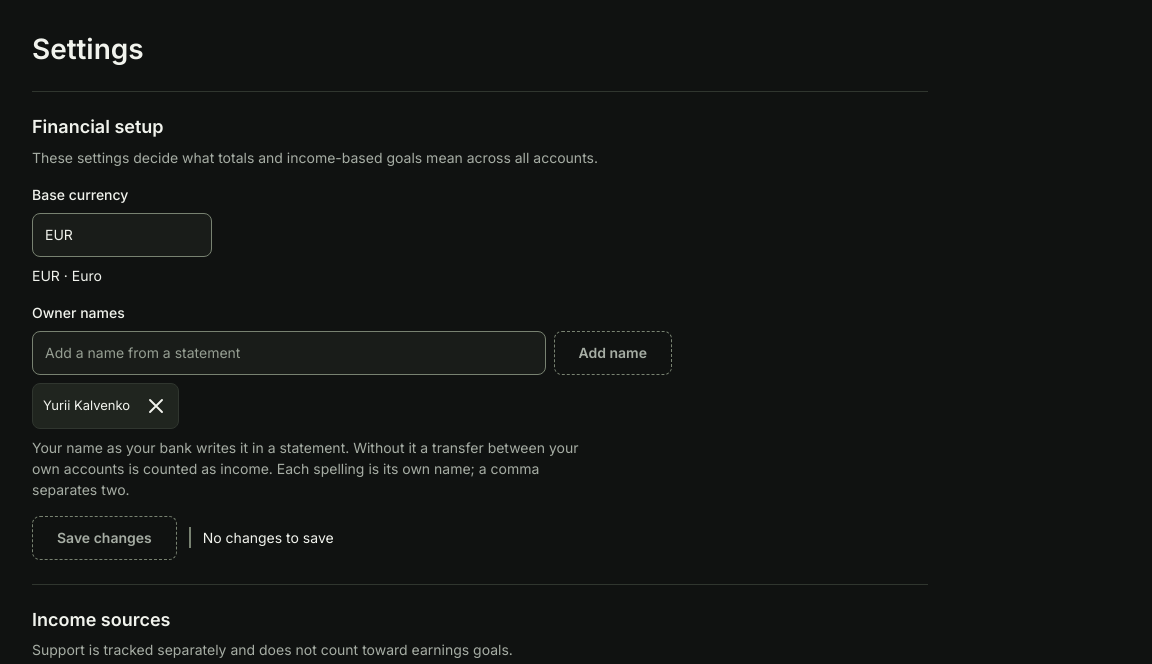
Test case: financial setup › shows the server's refusal instead of a success mark when the save is rejected
Type "EURO" into the field labelled "Base currency" at (122, 234), box [32,212,212,256]
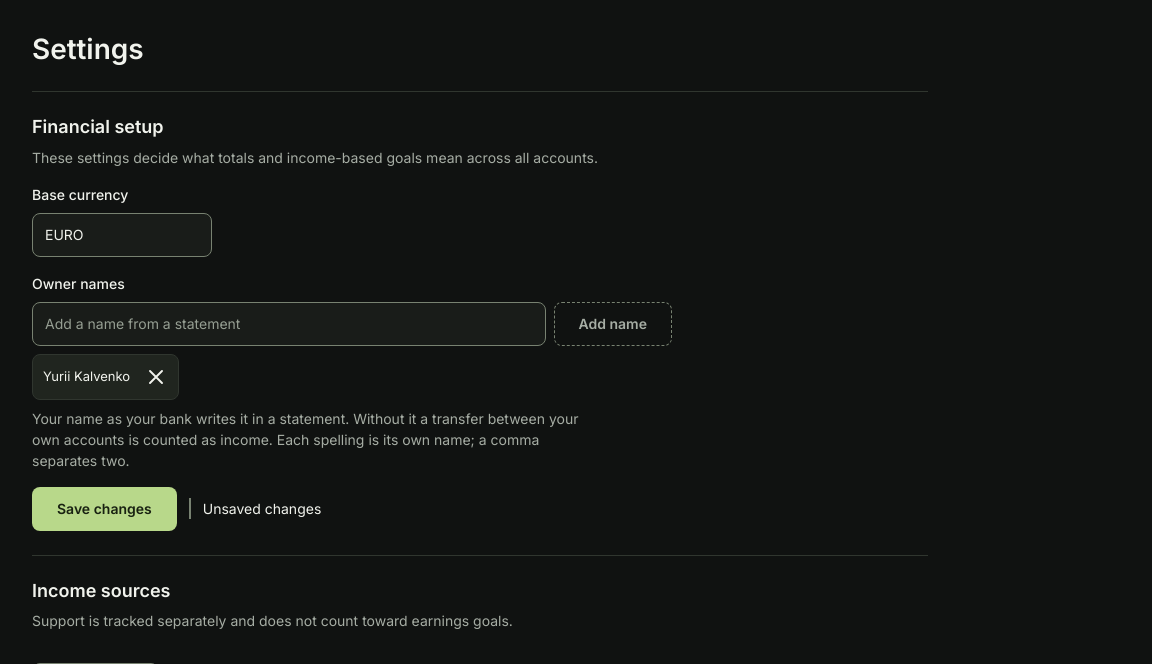
Click the button "Save changes" at (104, 508), box [32,486,177,530]
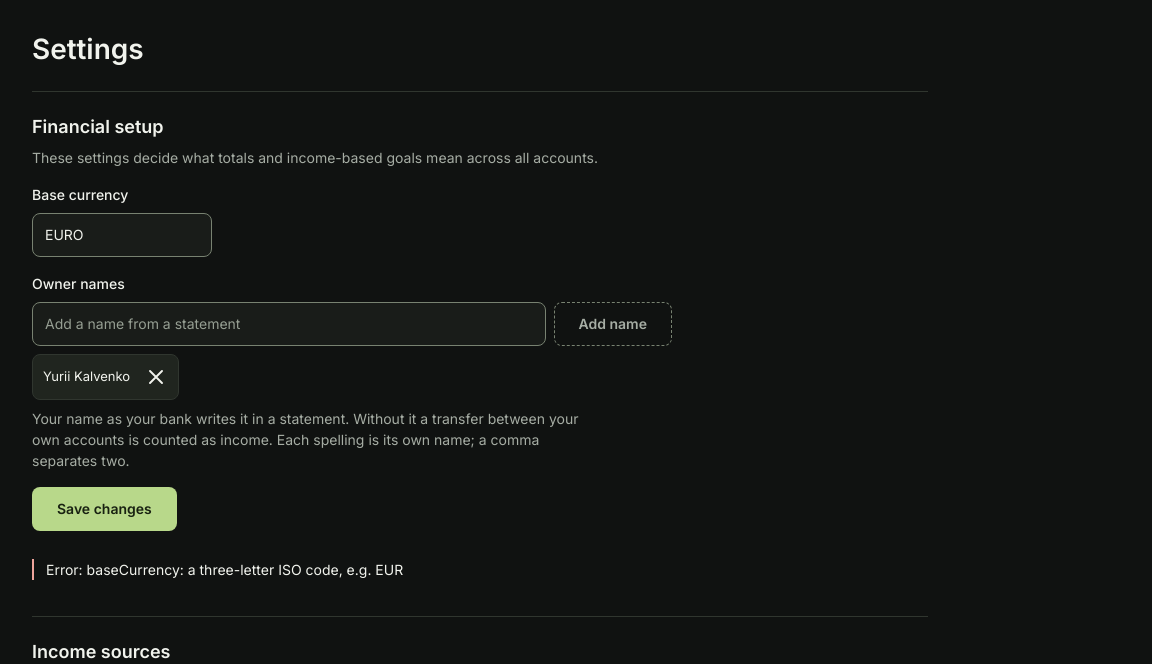
Result: the text "Error: baseCurrency: a three-letter ISO code, e.g. EUR" is shown at [46,560,403,578]
